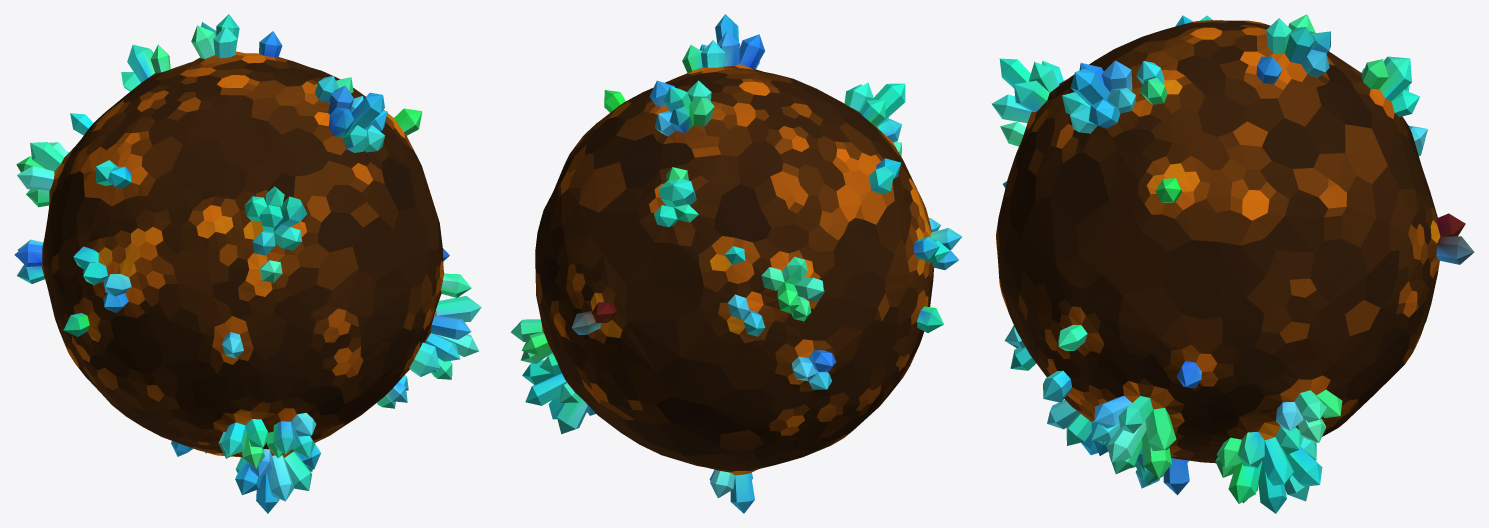
File: Crystal_planet_13.fbx
3 renders of one model, left to right at view 1: azimuth 30°, elevation 25°; view 2: azimuth 150°, elevation 25°; view 3: azimuth 270°, elevation 25°, orthographic. The views are drawn at different scales.
Visible parts, largest first — view 1: file6; view 2: file6; view 3: file6.
Boxes of the visible parts, box(x1,y1,x2,y2) form: file6: box(14, 14, 481, 513); file6: box(510, 14, 962, 513); file6: box(991, 14, 1474, 513).
Size of the model in its own units: 2.26 by 2.34 by 2.18.
